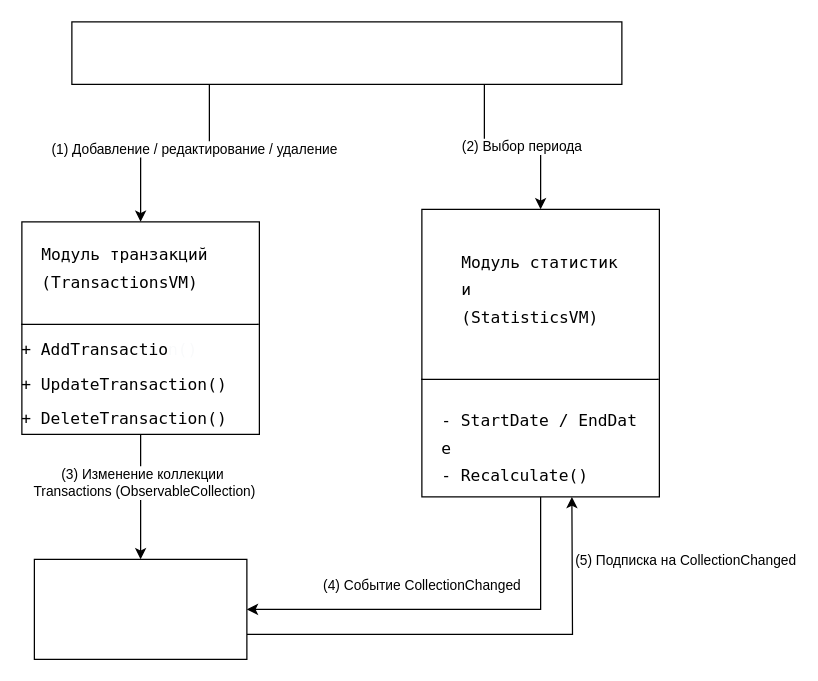
The diagram is 818 pixels wide and 681 high, and some of its shapes have lost their labels. The shapes that lost their labels are listed below. From the top down, each one's box as (x1, y1, x2, y2) in pixels, then its label:
(71, 21, 622, 84): Пользователь
(33, 558, 247, 659): Общая модель Transaction
